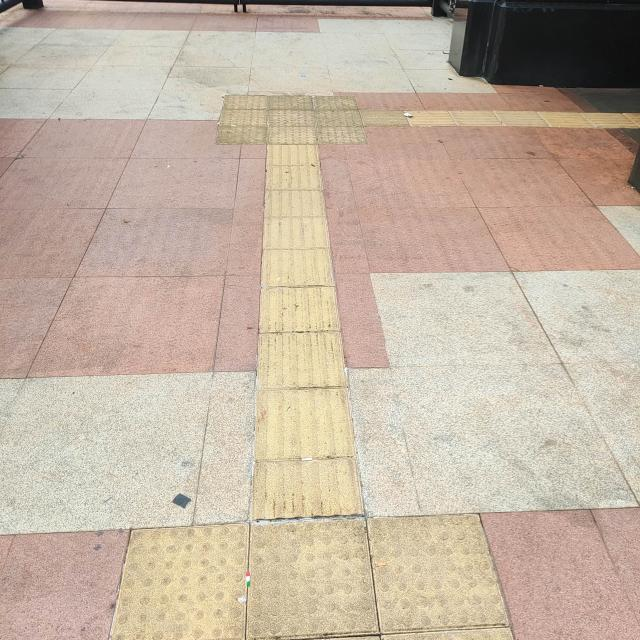kanan: (238, 76, 471, 167)
